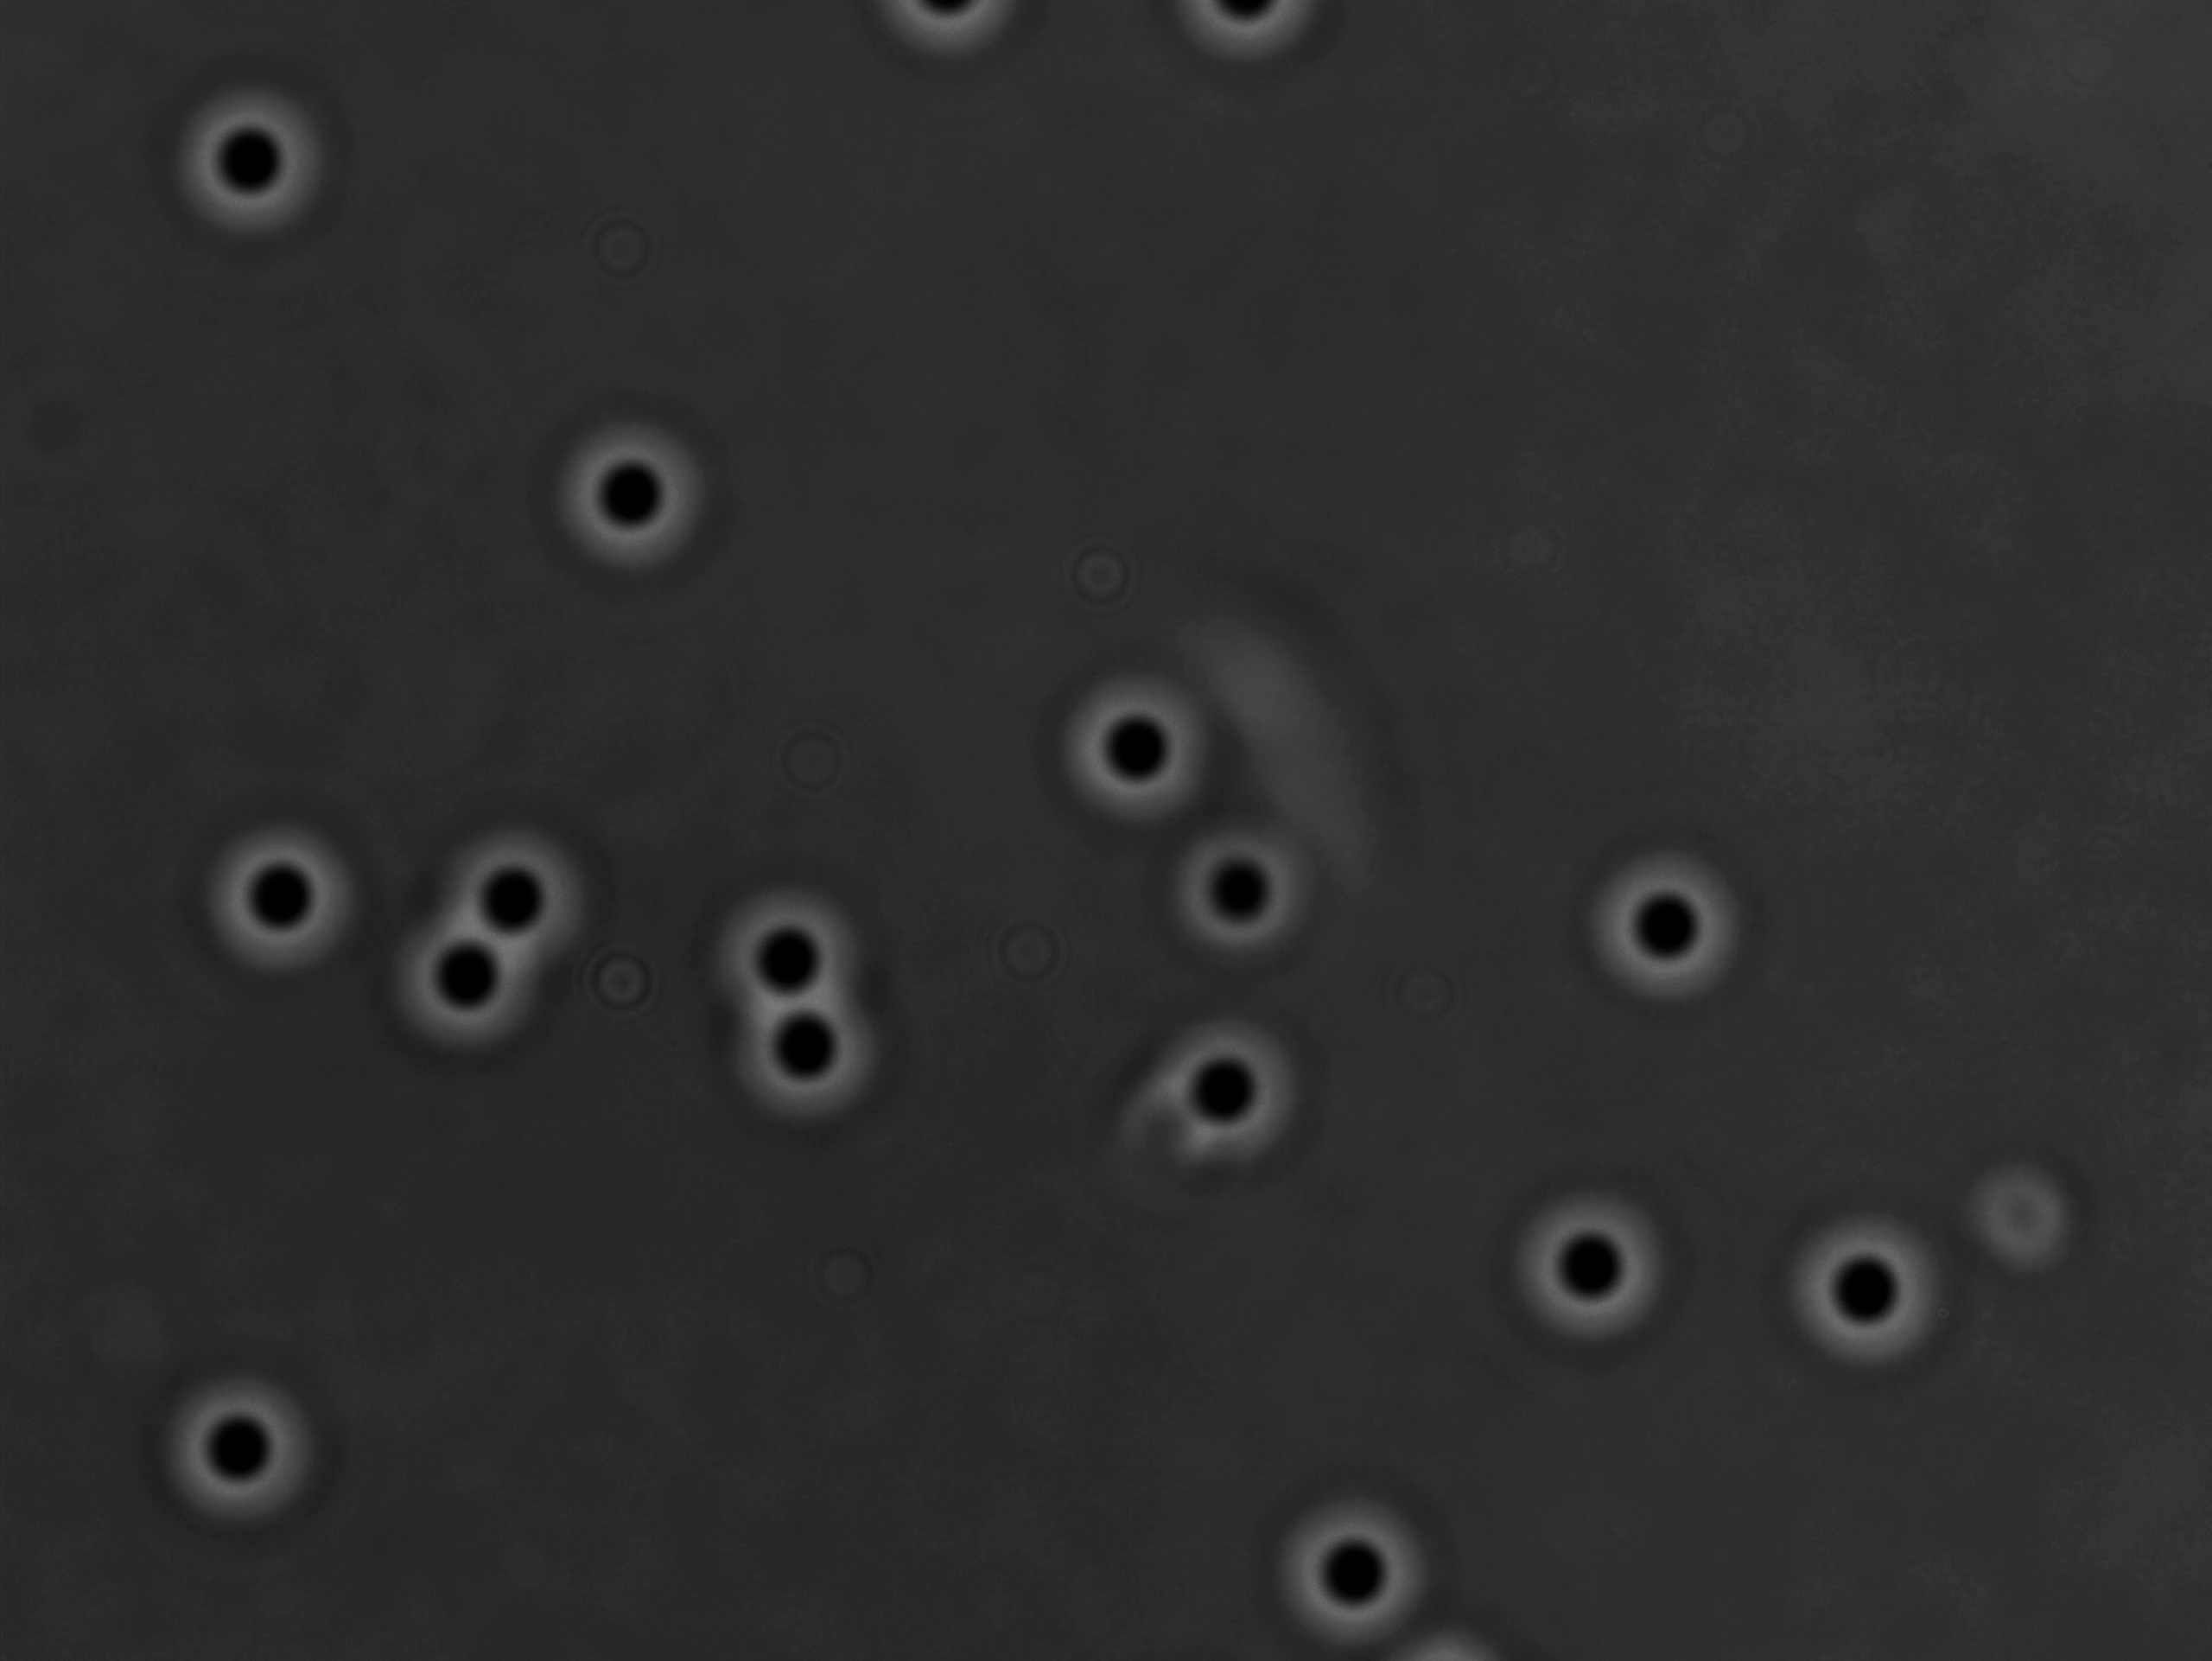depth:-80: (1129, 979, 1343, 1195), (1568, 829, 1771, 1022), (1500, 1164, 1696, 1359), (154, 1356, 354, 1542), (1155, 787, 1340, 977), (1767, 1197, 1952, 1387), (1261, 1480, 1455, 1659), (1043, 665, 1230, 846), (700, 881, 891, 1057), (720, 960, 902, 1139), (546, 410, 726, 584), (426, 811, 609, 982), (169, 73, 344, 249), (195, 818, 368, 995), (379, 895, 553, 1066)
